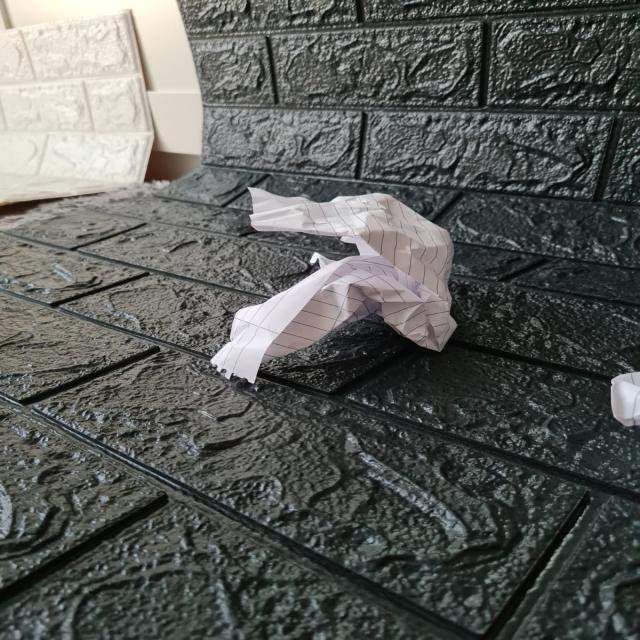Paper: (211, 185, 455, 384)
